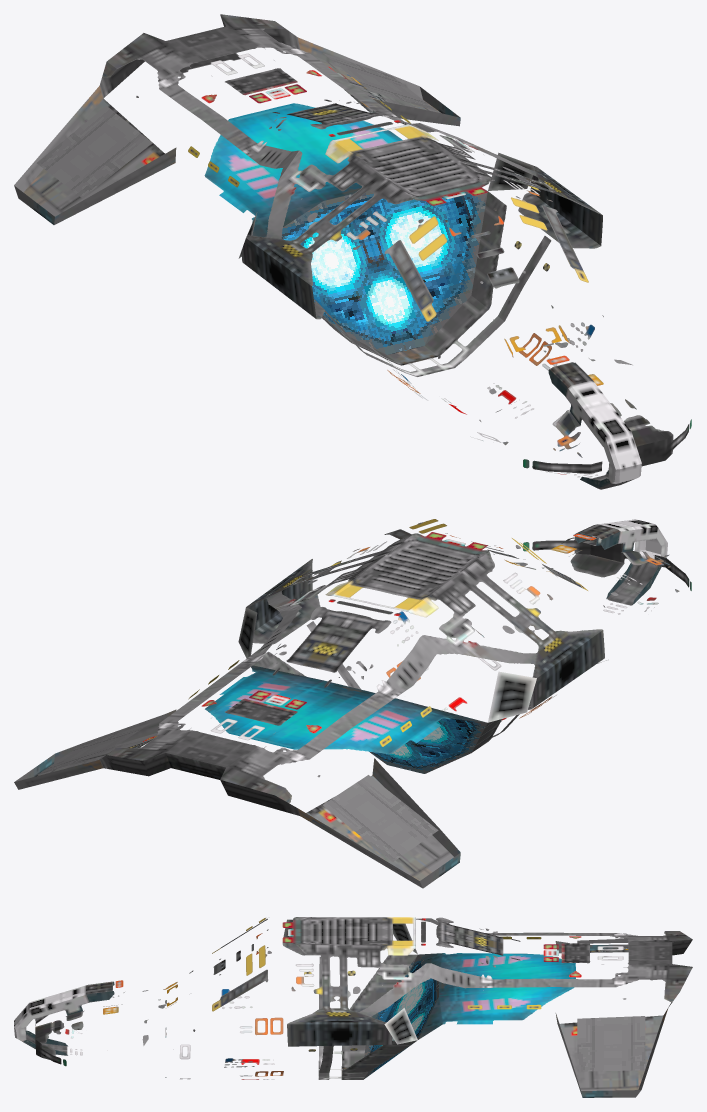
The picture shows the model from 3 angles, top to bottom: view 1: azimuth 30°, elevation 25°; view 2: azimuth 150°, elevation 25°; view 3: azimuth 270°, elevation 25°; orthographic projection. The views are drawn at different scales.
Parts seen in each view (by area): view 1: frontUV, burnerUV, leftoverUV, Badge0_MAT; view 2: frontUV, leftoverUV, Badge0_MAT, burnerUV; view 3: frontUV, Badge0_MAT, leftoverUV, burnerUV.
Boxes of the visible parts, bbox=[...] form: frontUV: bbox=[102, 14, 691, 489]; burnerUV: bbox=[281, 191, 487, 354]; leftoverUV: bbox=[14, 15, 460, 224]; Badge0_MAT: bbox=[36, 53, 437, 198]; frontUV: bbox=[105, 519, 691, 803]; leftoverUV: bbox=[14, 709, 460, 888]; Badge0_MAT: bbox=[37, 723, 438, 862]; burnerUV: bbox=[369, 718, 487, 773]; frontUV: bbox=[14, 917, 692, 1079]; Badge0_MAT: bbox=[577, 938, 645, 1071]; leftoverUV: bbox=[555, 939, 692, 1097]; burnerUV: bbox=[363, 955, 438, 1079].
Bounding box in the file's own units: 11.7 × 5.34 × 23.03.
